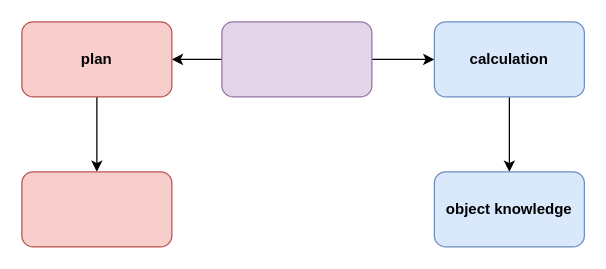
Some shapes in this 606 by 269 pixel diagram are drawn without their labels. Here are the shapes that lost their labels. From the top down, the centre of each, then its label:
At pixel 296 59: "mixing action designator".
At pixel 96 209: "atomic action designator".
